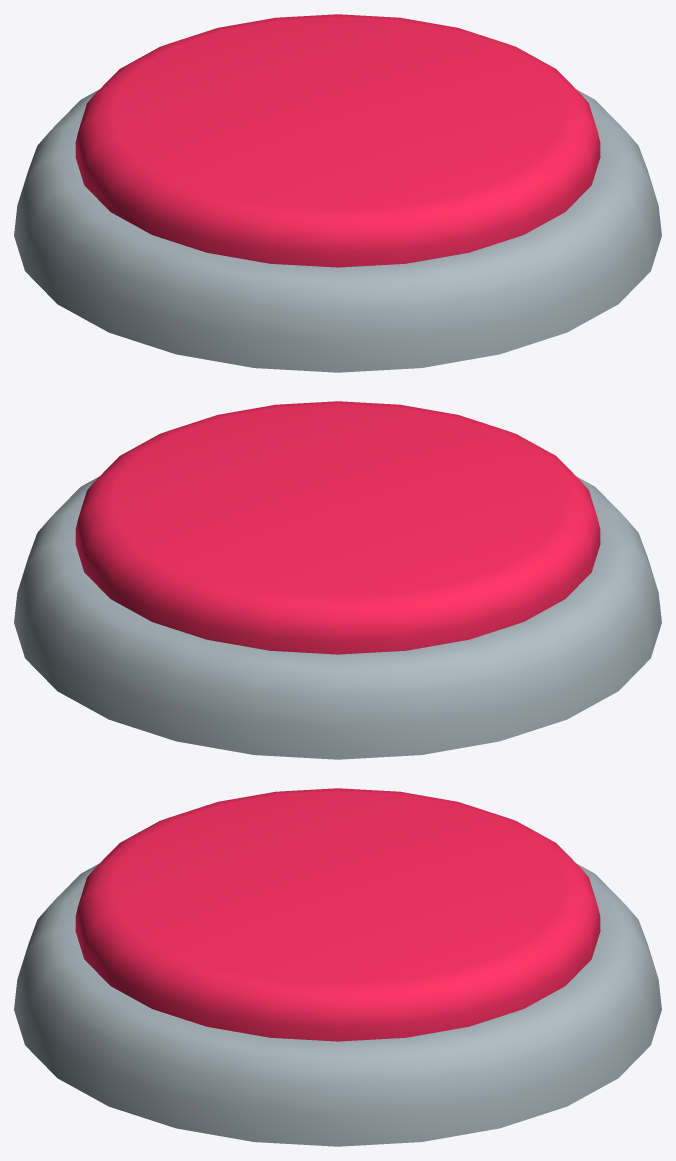
File: red_button.glb
3 renders of one model, top to bottom at view 1: azimuth 30°, elevation 25°; view 2: azimuth 150°, elevation 25°; view 3: azimuth 270°, elevation 25°, orthographic.
Parts seen in each view (by area): view 1: Button, Cover; view 2: Button, Cover; view 3: Button, Cover.
Part boxes in pixels (<box>): Button: <box>75,14,600,267</box>; Cover: <box>14,89,661,372</box>; Button: <box>75,401,600,654</box>; Cover: <box>14,476,661,759</box>; Button: <box>75,788,600,1041</box>; Cover: <box>14,863,661,1146</box>.
Size of the model in its own units: 1.63 by 0.3395 by 1.63.
